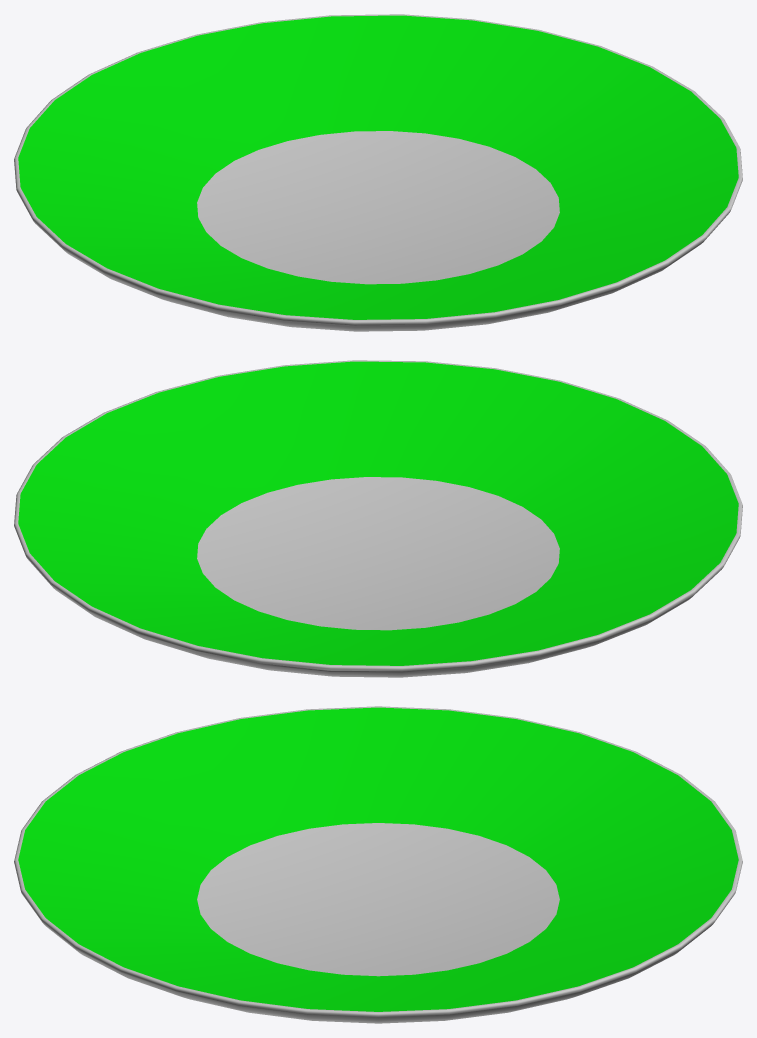
File: Plate .fbx
3 renders of one model, top to bottom at view 1: azimuth 30°, elevation 25°; view 2: azimuth 150°, elevation 25°; view 3: azimuth 270°, elevation 25°, orthographic.
Visible parts, largest first — view 1: Sphere; view 2: Sphere; view 3: Sphere.
Boxes of the visible parts, x1,y1,x2,y2 form: Sphere: (14, 14, 742, 331); Sphere: (14, 360, 742, 677); Sphere: (14, 706, 742, 1023).
Bounding box in the file's own units: 199 × 21.19 × 199.
